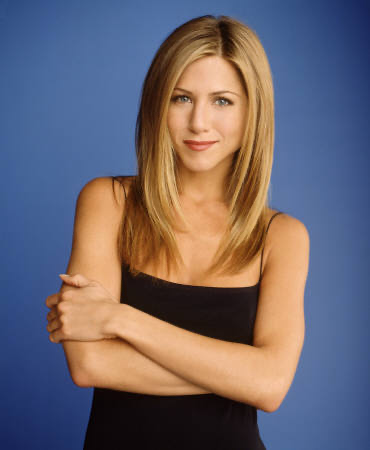Face: (165, 71, 254, 177)
